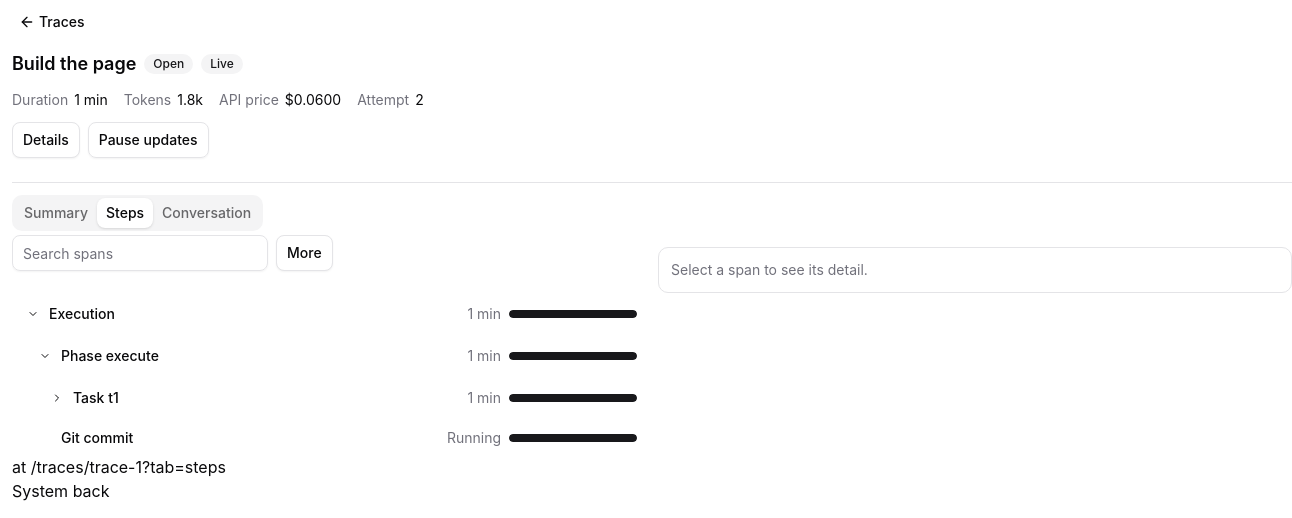
Test case: TraceScreen polling › reads an open trace again after 5 seconds and stops when the human pauses
expect the element named "Spans" is shown: met, box [12,295,646,455]
Click the button "Pause updates" at {"x": 148, "y": 140}, box [88,122,209,158]
Wait 15000 ms
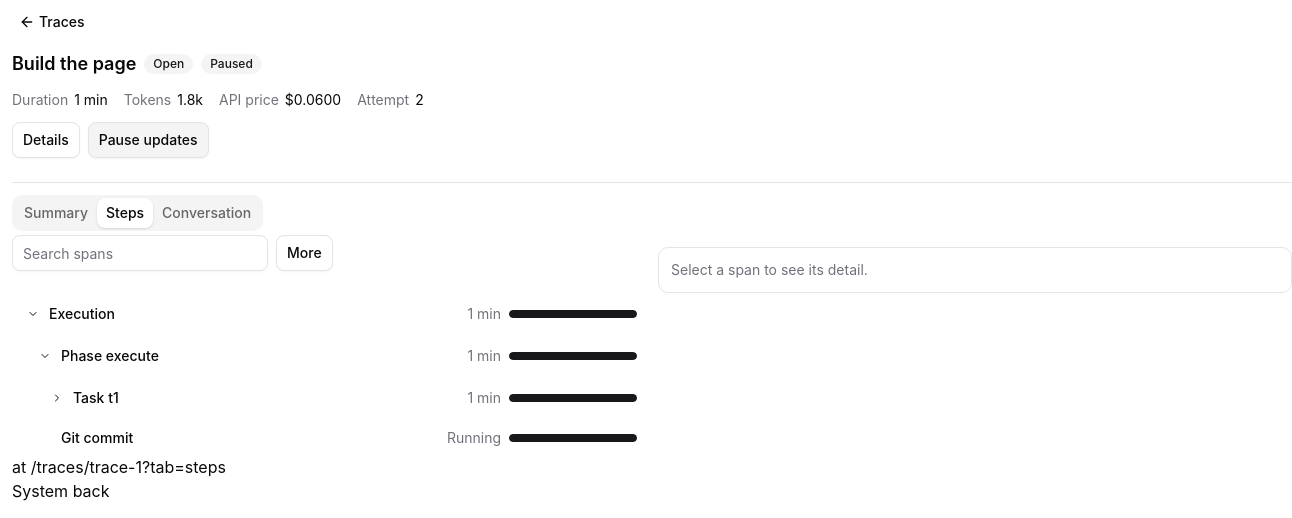
expect the text "Paused" is shown: met, box [201,54,262,74]
